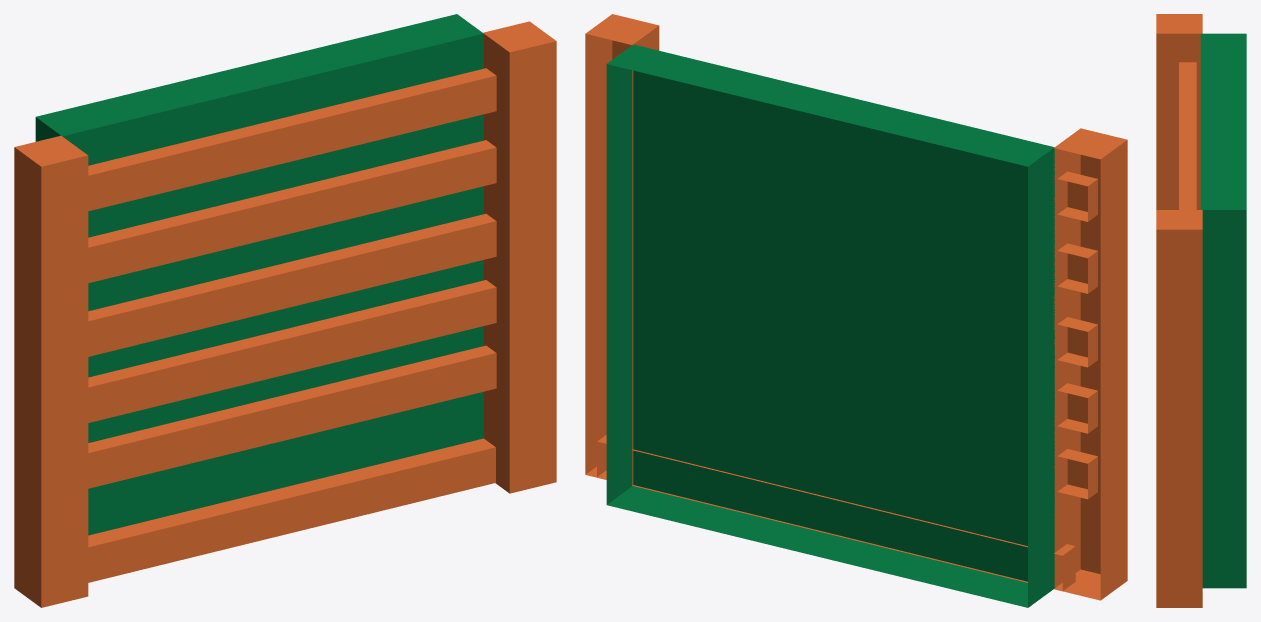
Rendered from StraightWall.fbx.
3 views of the same model, side by side, from view 1: azimuth 30°, elevation 25°; view 2: azimuth 150°, elevation 25°; view 3: azimuth 270°, elevation 25° (orthographic). The views are drawn at different scales.
Parts seen in each view (by area): view 1: WallFace_Low, WallLeft_Low, WallRight_Low, WallBottom_Low, StraightWood02_Low, StraightWood03_Low, StraightWood05_Low, StraightWood01_Low, StraightWood04_Low; view 2: WallFace_Low, WallLeft_Low, WallRight_Low, WallBottom_Low, StraightWood04_Low, StraightWood05_Low, StraightWood01_Low, StraightWood02_Low, StraightWood03_Low; view 3: WallFace_Low, WallRight_Low, WallLeft_Low, StraightWood05_Low.
Part boxes in pixels (<box>): WallFace_Low: <box>35,14,483,535</box>; WallLeft_Low: <box>14,135,88,607</box>; WallRight_Low: <box>483,21,556,493</box>; WallBottom_Low: <box>88,438,495,582</box>; StraightWood02_Low: <box>88,280,496,422</box>; StraightWood03_Low: <box>88,214,496,356</box>; StraightWood05_Low: <box>88,68,496,211</box>; StraightWood01_Low: <box>88,345,496,488</box>; StraightWood04_Low: <box>88,140,496,283</box>; WallFace_Low: <box>606,44,1054,607</box>; WallLeft_Low: <box>1053,128,1127,600</box>; WallRight_Low: <box>585,14,659,485</box>; WallBottom_Low: <box>597,435,1075,591</box>; StraightWood04_Low: <box>1057,243,1097,293</box>; StraightWood05_Low: <box>1057,171,1097,221</box>; StraightWood01_Low: <box>1057,449,1097,499</box>; StraightWood02_Low: <box>1057,383,1097,433</box>; StraightWood03_Low: <box>1057,317,1097,367</box>; WallFace_Low: <box>1200,33,1246,588</box>; WallRight_Low: <box>1156,210,1202,607</box>; WallLeft_Low: <box>1156,14,1202,209</box>; StraightWood05_Low: <box>1179,62,1196,209</box>.
Size of the model in its own units: 611 by 500 by 108.
